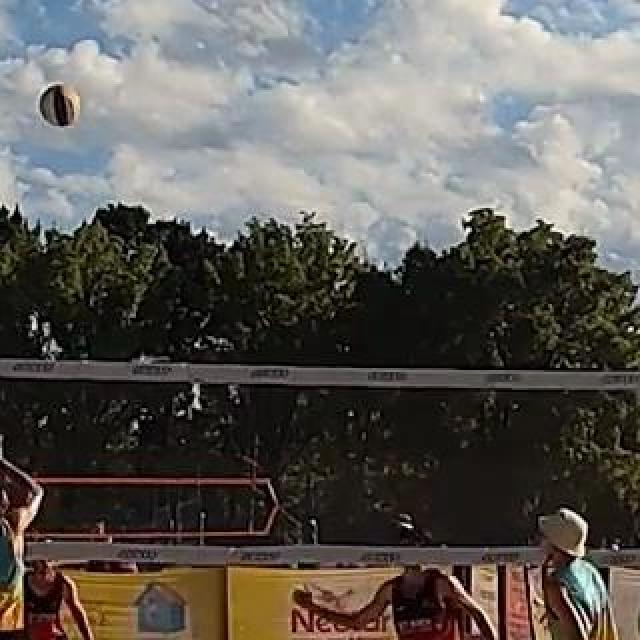volleyball: (38, 82, 78, 126)
